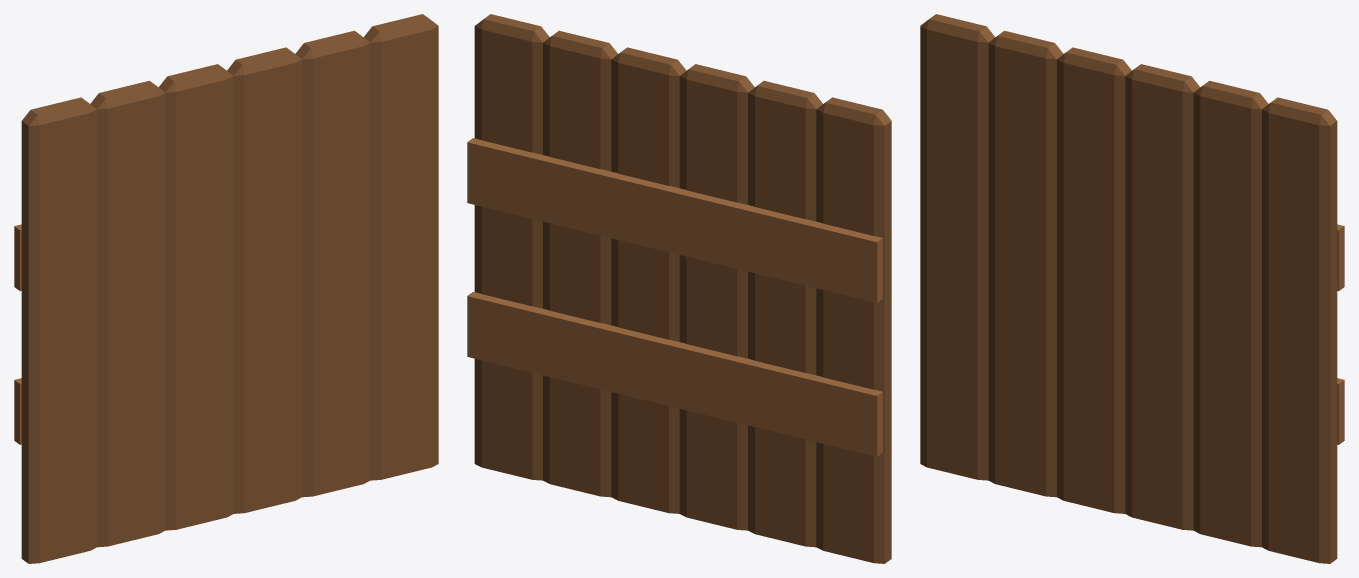
File: Fence_15_Light_Brown.fbx
The picture shows the model from 3 angles, left to right: view 1: azimuth 30°, elevation 25°; view 2: azimuth 150°, elevation 25°; view 3: azimuth 330°, elevation 25°; orthographic projection.
Parts seen in each view (by area): view 1: Fence_15_Light_Brown; view 2: Fence_15_Light_Brown; view 3: Fence_15_Light_Brown.
Part boxes in pixels (x1,y1,x2,y2): Fence_15_Light_Brown: [14, 14, 438, 563]; Fence_15_Light_Brown: [467, 14, 891, 563]; Fence_15_Light_Brown: [920, 14, 1344, 563].
Size of the model in its own units: 240 by 250 by 16.73.
